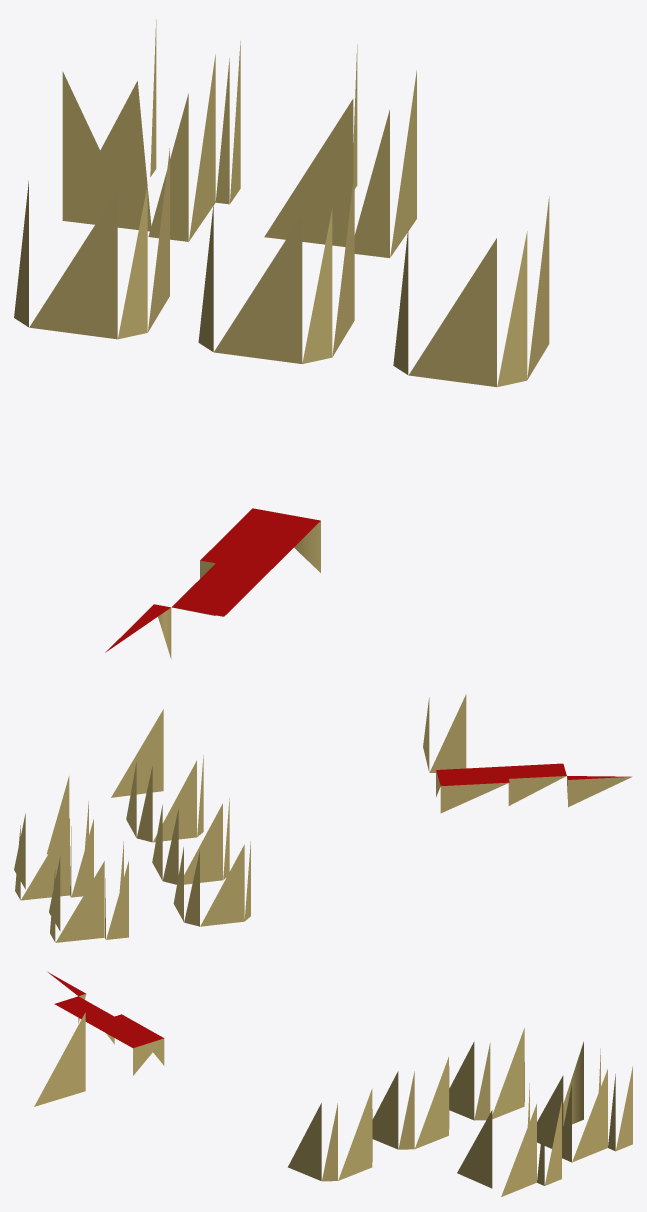
3 renders of one model, top to bottom at view 1: azimuth 30°, elevation 25°; view 2: azimuth 150°, elevation 25°; view 3: azimuth 270°, elevation 25°, orthographic. The views are drawn at different scales.
Bounding box in the file's own units: 228 × 45 × 301.
